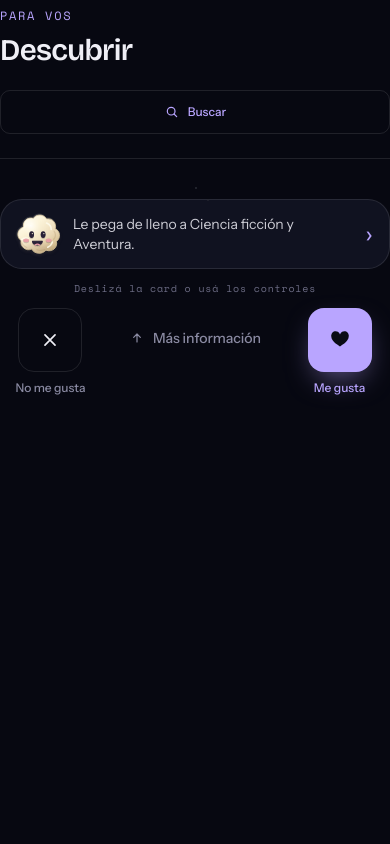
DiscoverScreen › shows what the assistant actually replied
Click the button with aria-label "Abrir asistente de Buti sobre Dune desde el resumen" at point(195, 234), box x1=0 y1=198 x2=389 y2=268
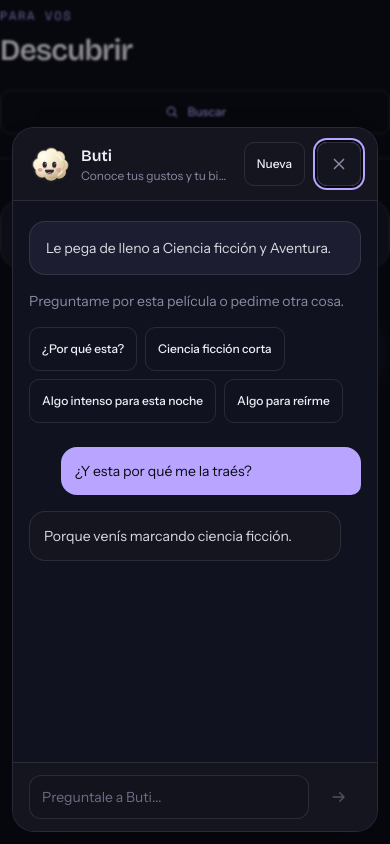
Expected: the text "¿Y esta por qué me la traés?" is shown, x1=61 y1=447 x2=361 y2=495
Expected: the text "Porque venís marcando ciencia ficción." is shown, x1=29 y1=511 x2=341 y2=561
